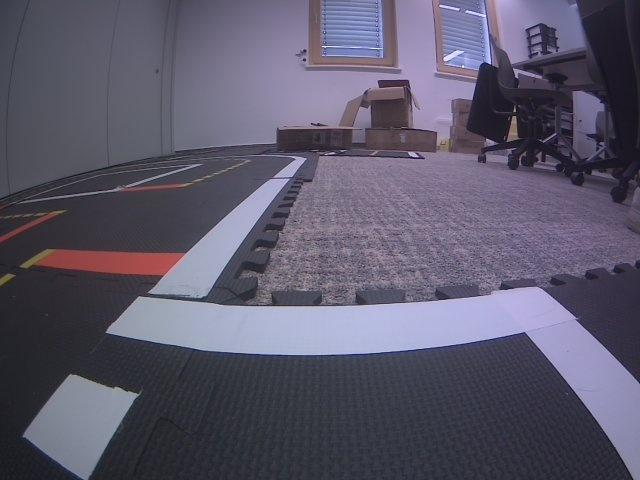park: (6, 288, 639, 479)
